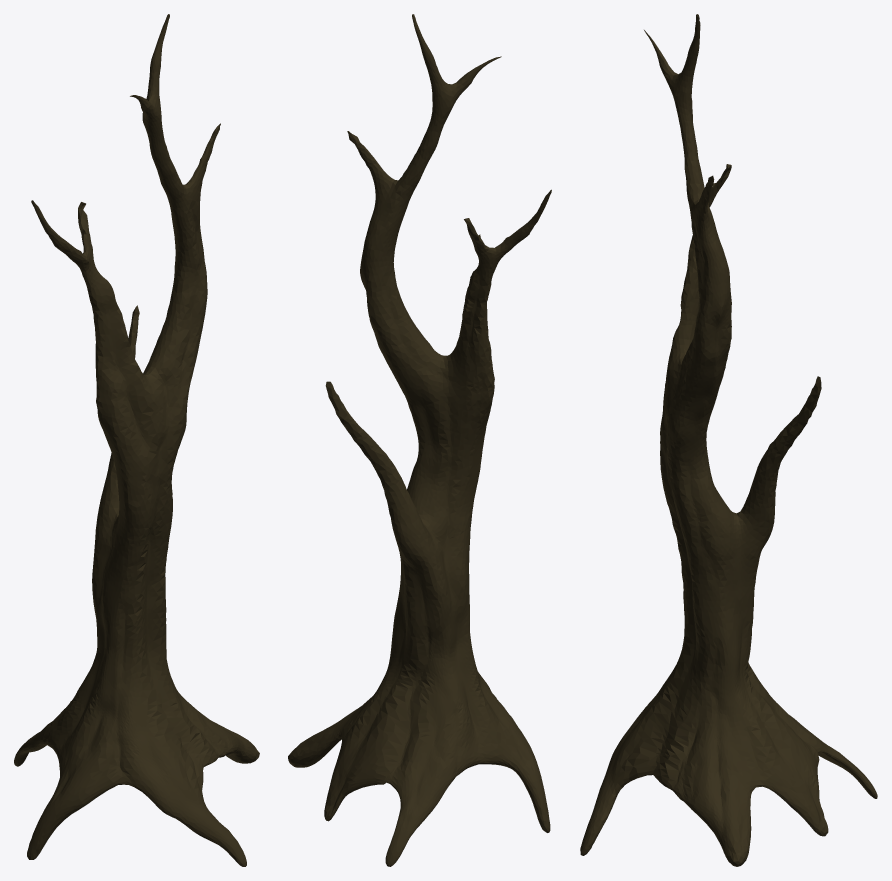
File: Tree (1).fbx
3 renders of one model, left to right at view 1: azimuth 30°, elevation 25°; view 2: azimuth 150°, elevation 25°; view 3: azimuth 270°, elevation 25°, orthographic. The views are drawn at different scales.
Parts seen in each view (by area): view 1: Quad Sphere; view 2: Quad Sphere; view 3: Quad Sphere.
Boxes of the visible parts, bbox=[...] form: Quad Sphere: bbox=[14, 14, 259, 866]; Quad Sphere: bbox=[288, 14, 551, 866]; Quad Sphere: bbox=[580, 14, 877, 866].
Size of the model in its own units: 345 by 1078 by 349.
